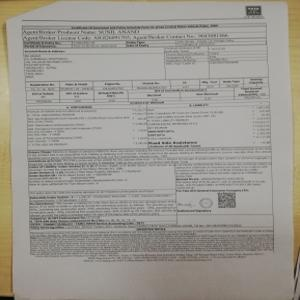image: (243, 4, 265, 16)
table: (21, 24, 270, 98), (26, 100, 271, 149)
text: (30, 230, 275, 263)
